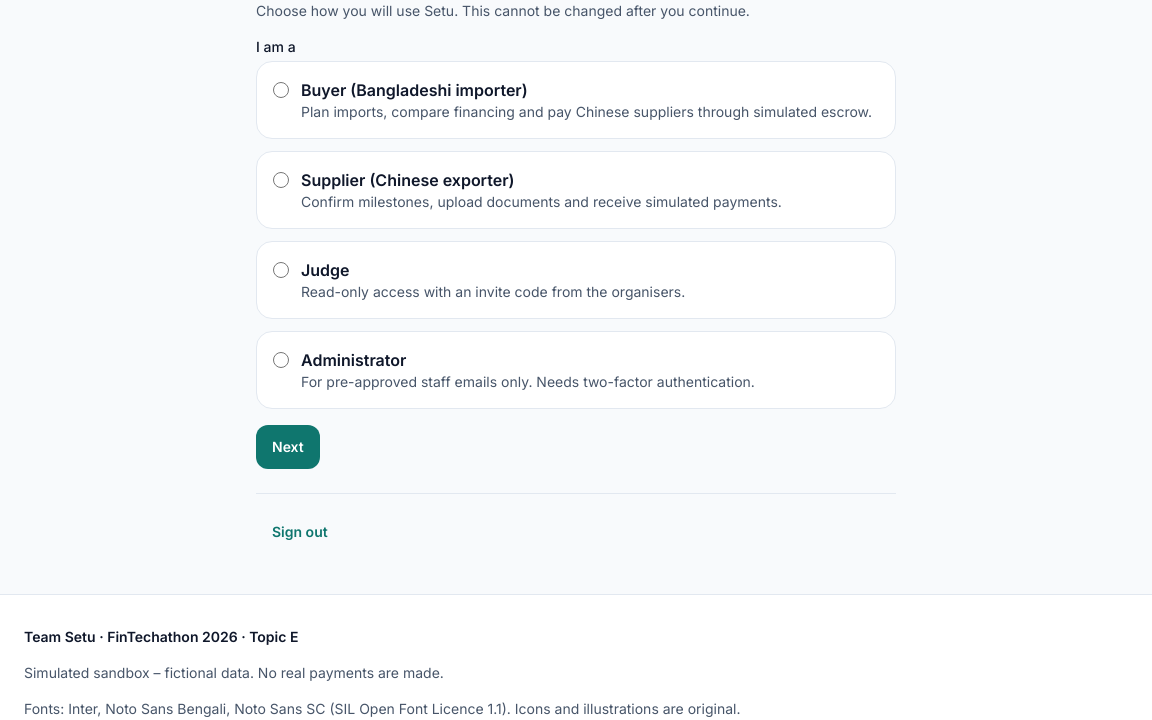
Test: OnboardingWizard › opens the Security step right after an administrator picks the role
(page scrolled)
Step 1. Click the radio button labelled "Administrator" → (281, 360), box [273,352,289,368]
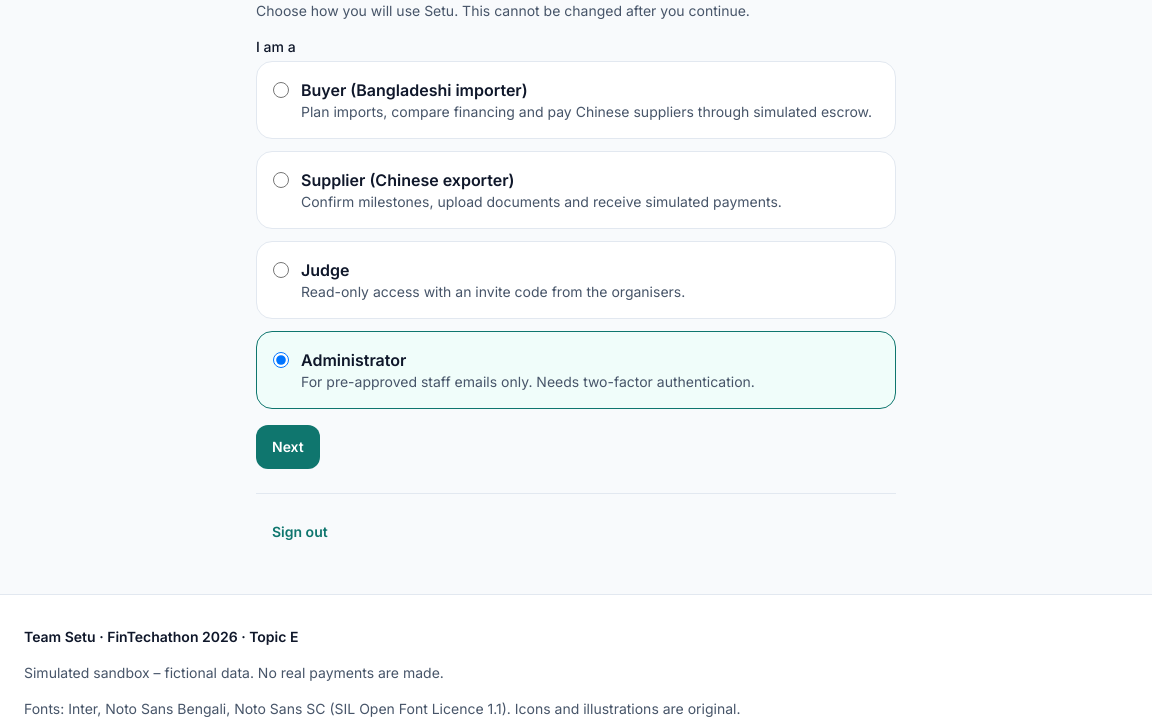
Step 2. Click the button "Next" → (288, 447), box [256,425,320,469]
(page scrolled)
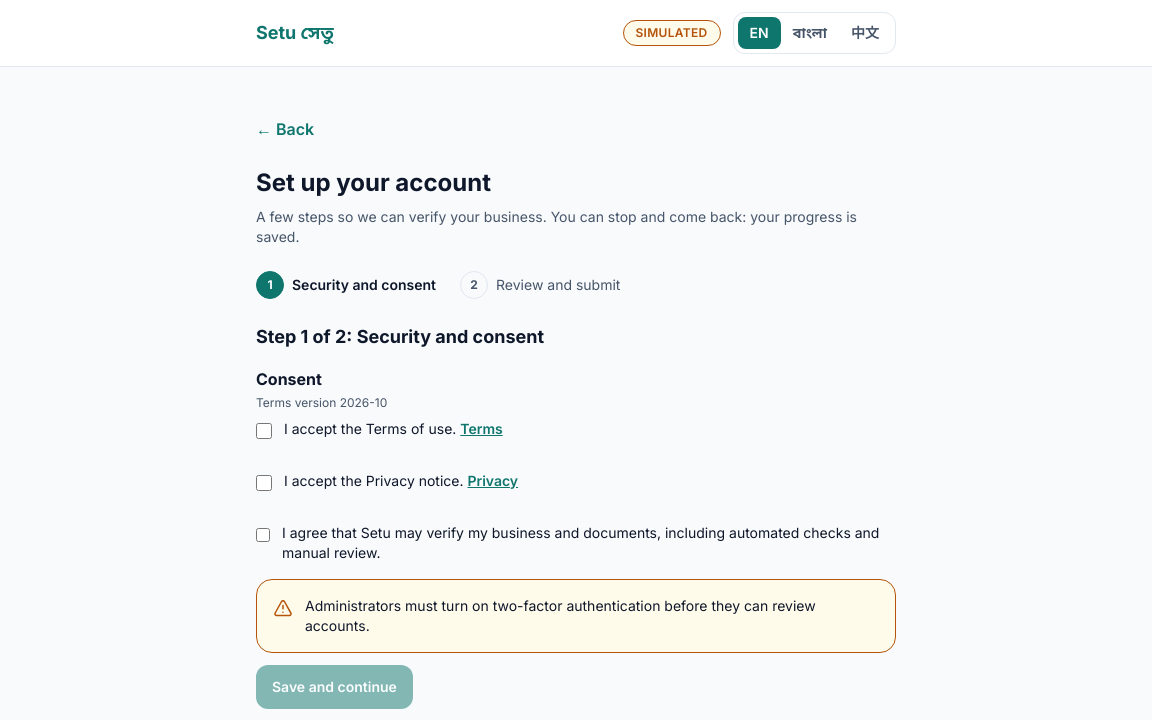
Result: the heading "Step 1 of 2: Security and consent" is shown at [256,326,544,347]
